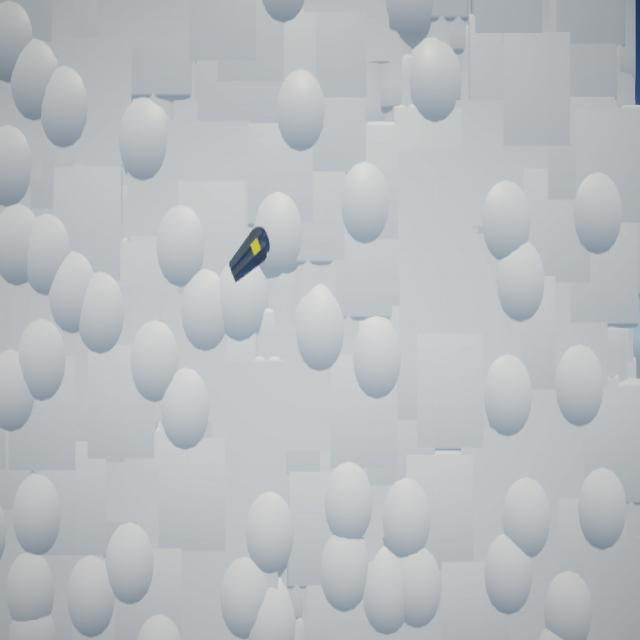handle_folk: (230, 227, 271, 284)
